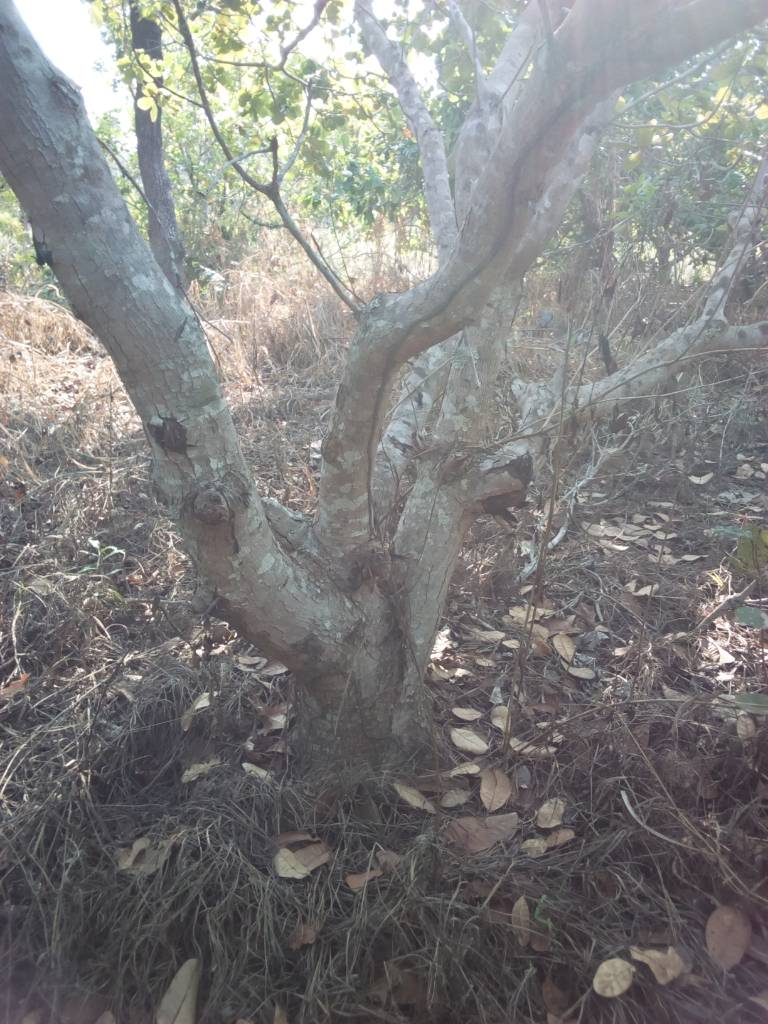Termites: (183, 483, 324, 680), (433, 128, 546, 316), (365, 316, 402, 530)
